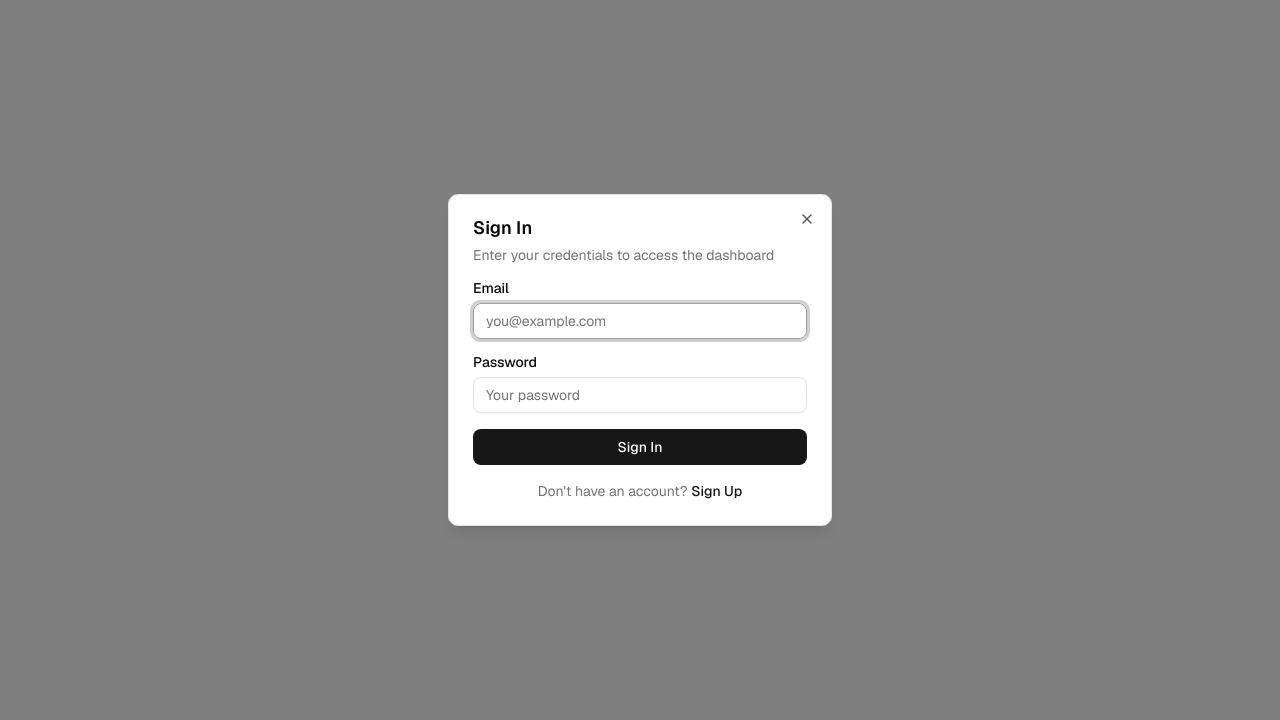
Test case: AuthDialog › shows error when submitting login with empty fields
Click the button "Sign In".
click(640, 447)  # box [473,429,807,465]
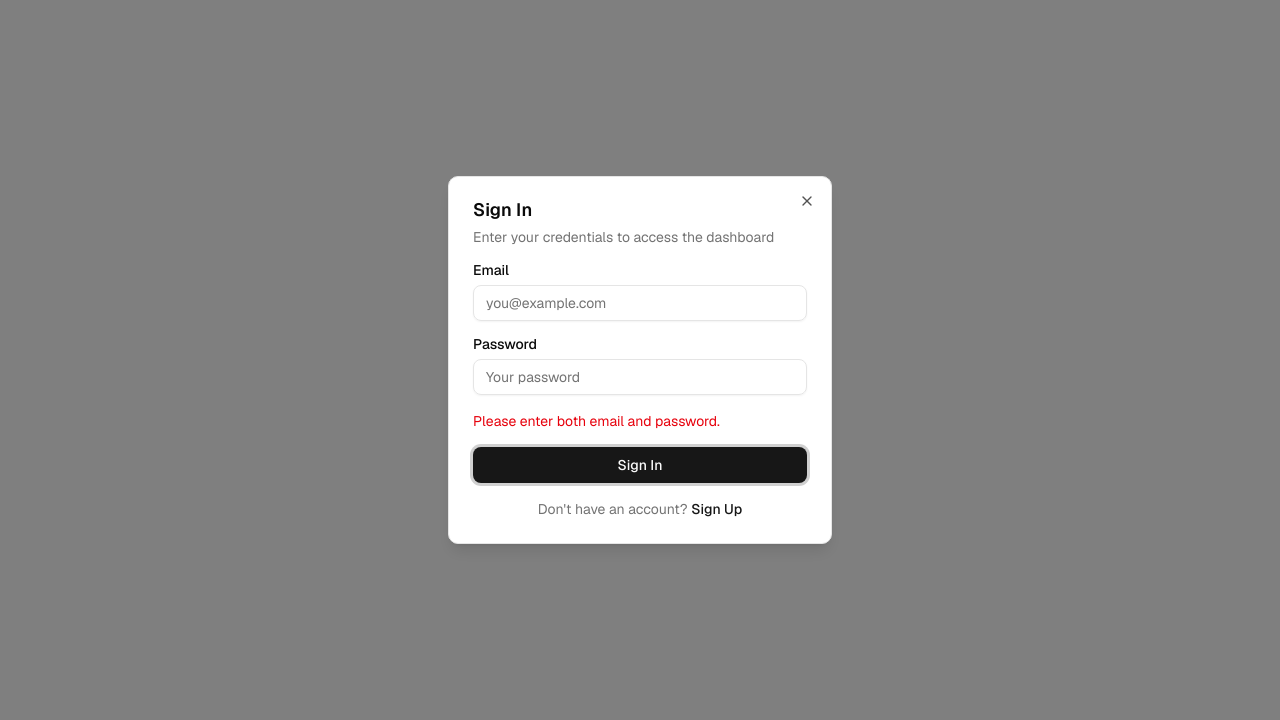
expect the message reads "Please enter both email and password.": met, box [473,412,720,430]
